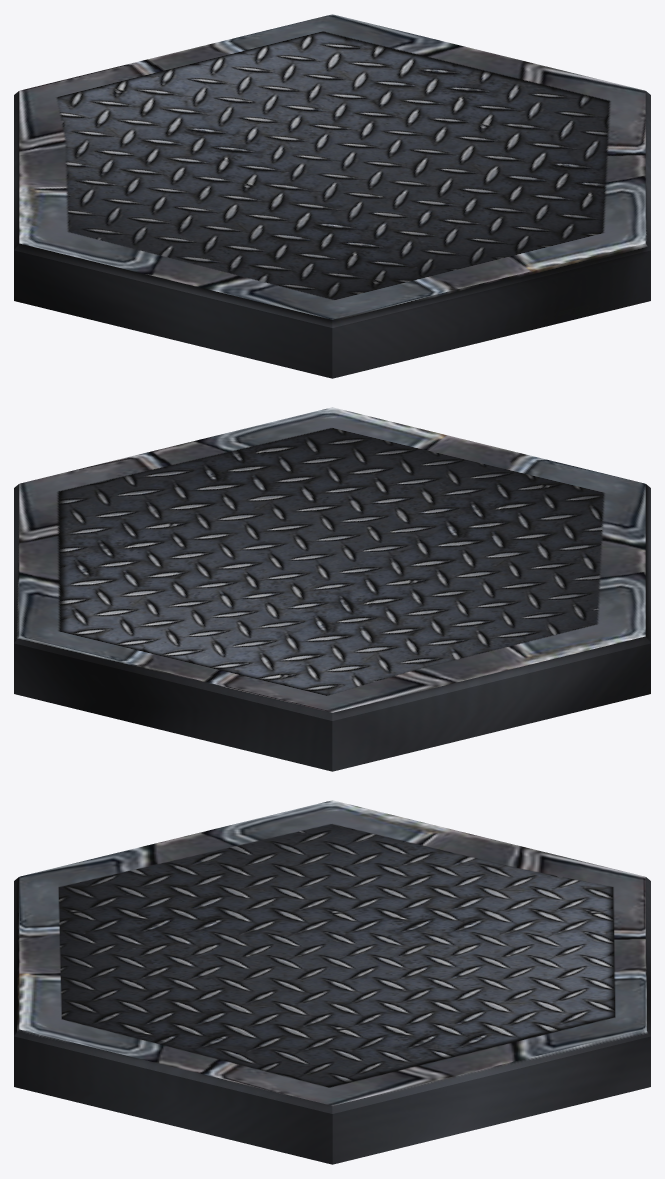
Rendered from plataforma.fbx.
3 renders of one model, top to bottom at view 1: azimuth 30°, elevation 25°; view 2: azimuth 150°, elevation 25°; view 3: azimuth 270°, elevation 25°, orthographic.
Parts seen in each view (by area): view 1: plataforma_geo; view 2: plataforma_geo; view 3: plataforma_geo.
Boxes of the visible parts, x1,y1,x2,y2 form: plataforma_geo: (14, 14, 650, 378); plataforma_geo: (14, 407, 650, 771); plataforma_geo: (14, 800, 650, 1164).
Bounding box in the file's own units: 115 × 9.7 × 99.66.
